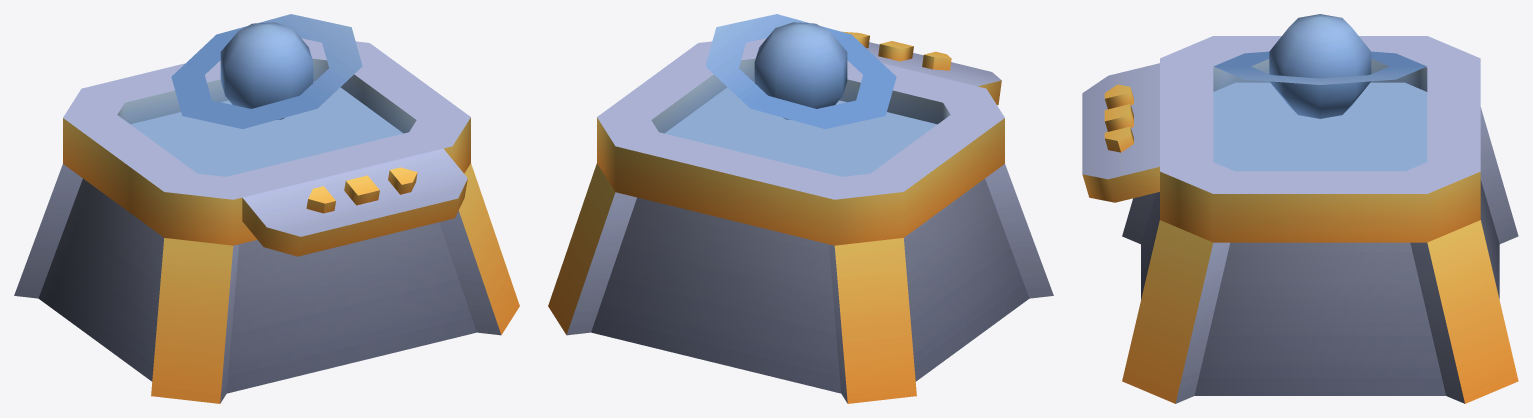
File: lectern.glb
The picture shows the model from 3 angles, left to right: view 1: azimuth 30°, elevation 25°; view 2: azimuth 150°, elevation 25°; view 3: azimuth 270°, elevation 25°; orthographic projection. The views are drawn at different scales.
Parts seen in each view (by area): view 1: table-display-small; view 2: table-display-small; view 3: table-display-small.
Boxes of the visible parts, <box> form: table-display-small: <box>14,14,519,403</box>; table-display-small: <box>548,14,1053,403</box>; table-display-small: <box>1082,14,1518,403</box>.
Bounding box in the file's own units: 0.8414 × 0.6 × 0.8156.
1 material, 1 textured.
